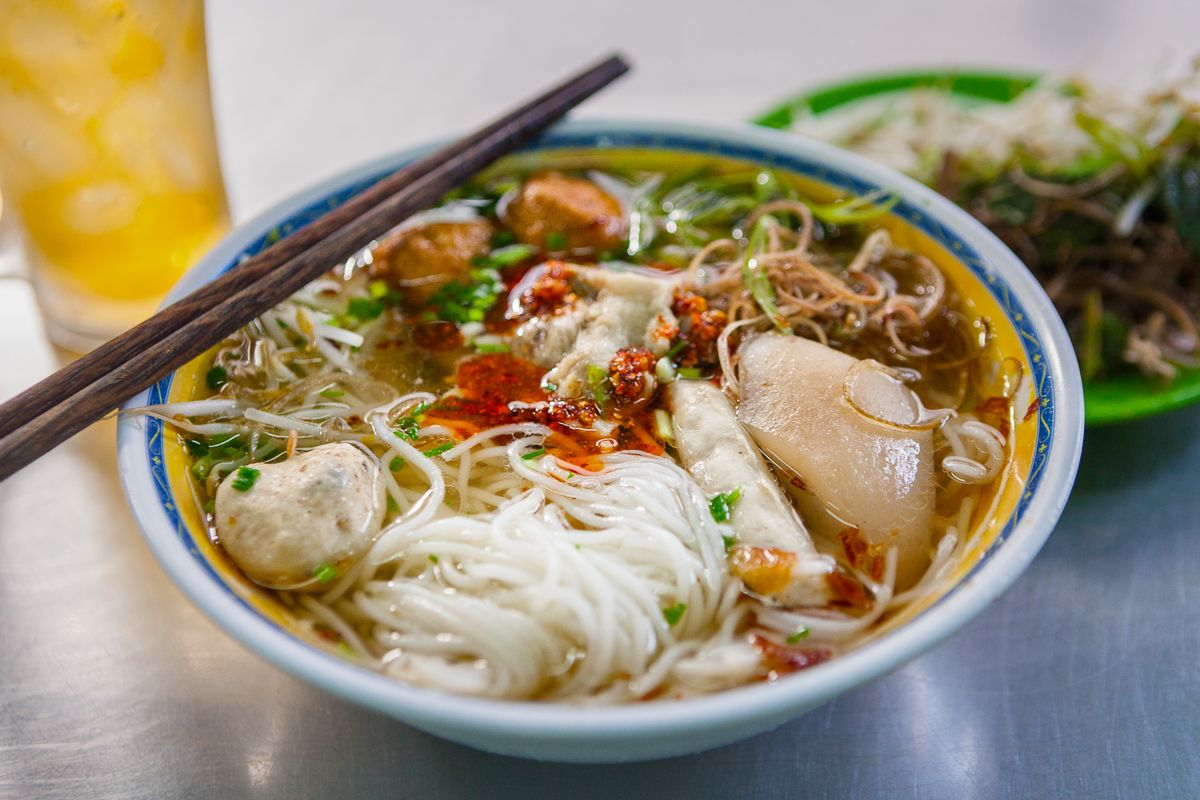chamoc: (212, 429, 381, 587)
pork: (733, 319, 945, 582)
vegetable: (713, 190, 906, 336)
